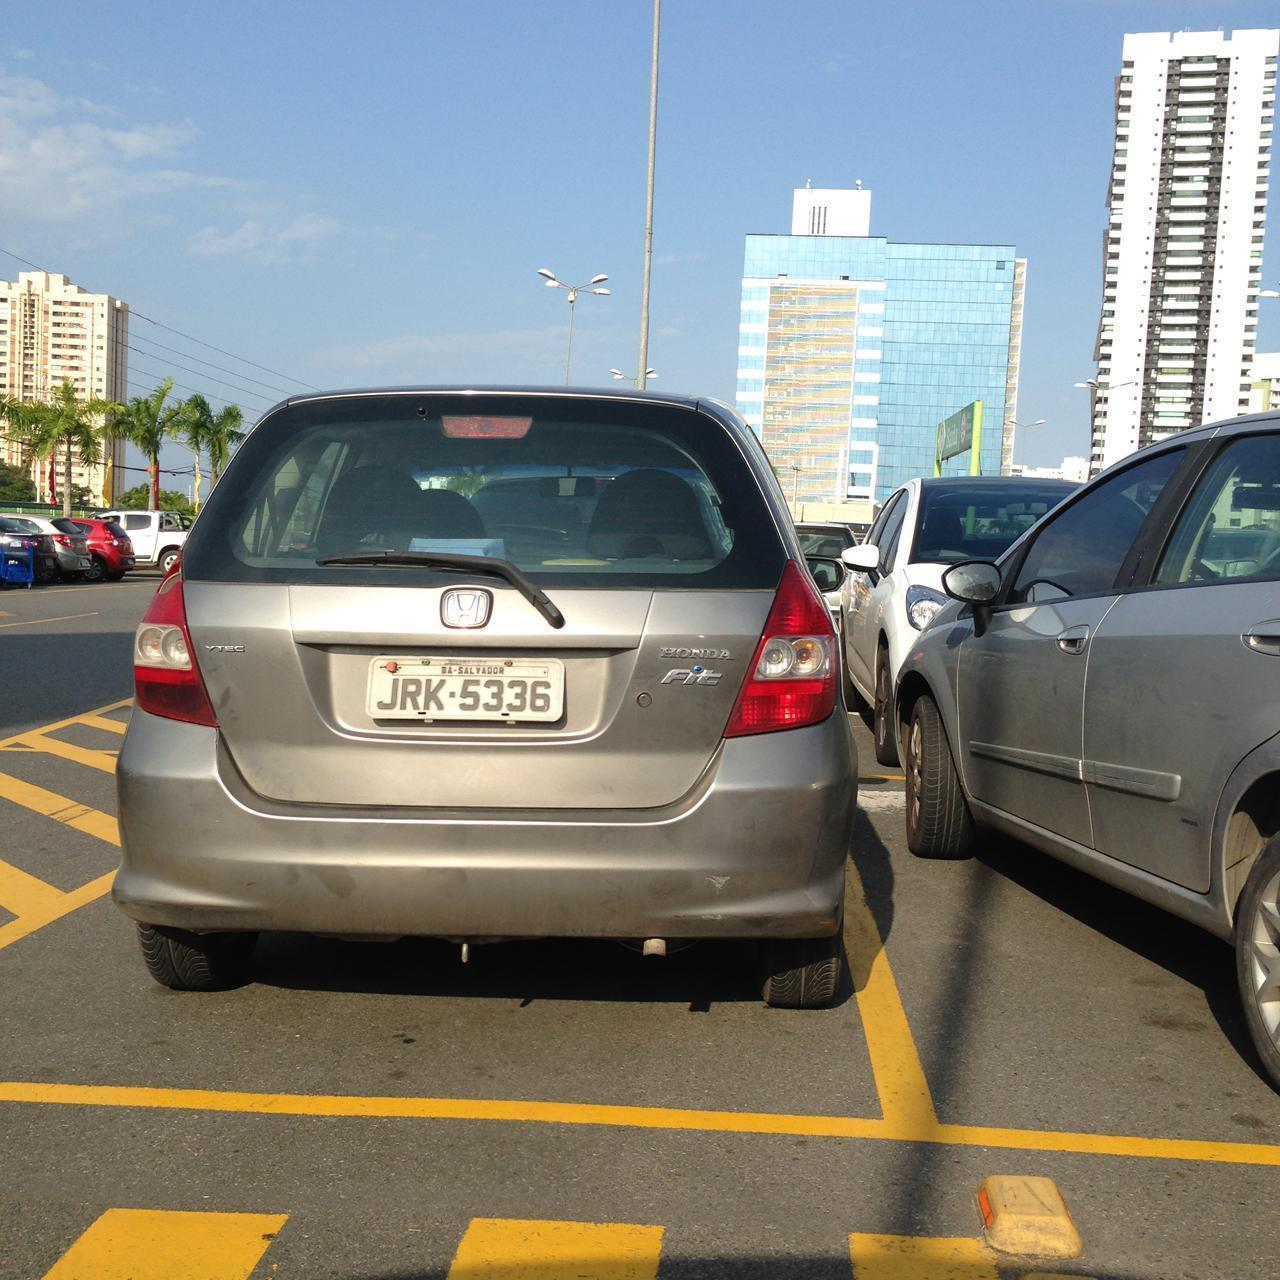placa de veiculo: (346, 645, 598, 746)
